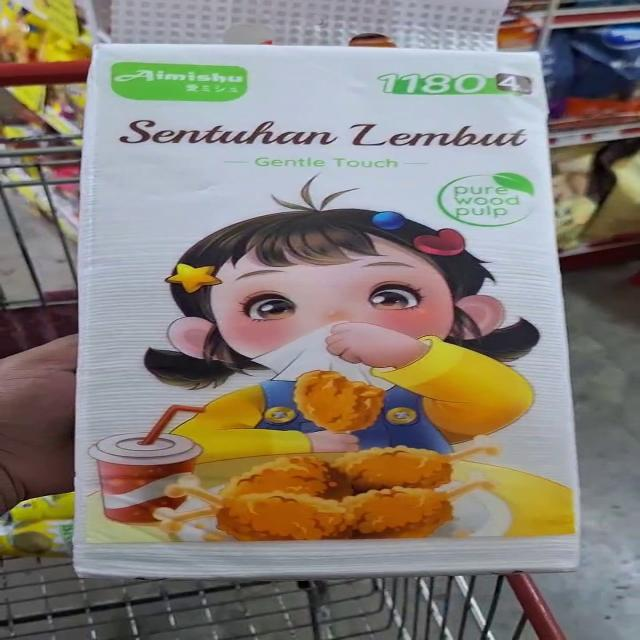Tisu: (61, 255, 590, 580), (72, 10, 584, 294)
